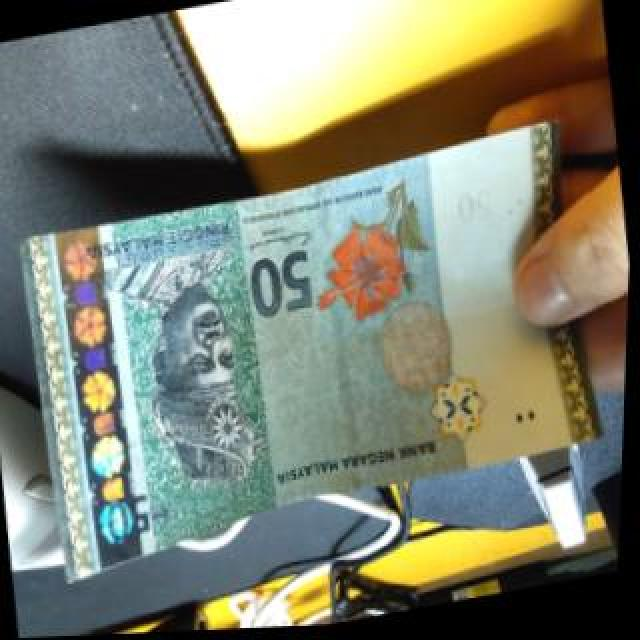50 Ringgit: (4, 116, 615, 593)
